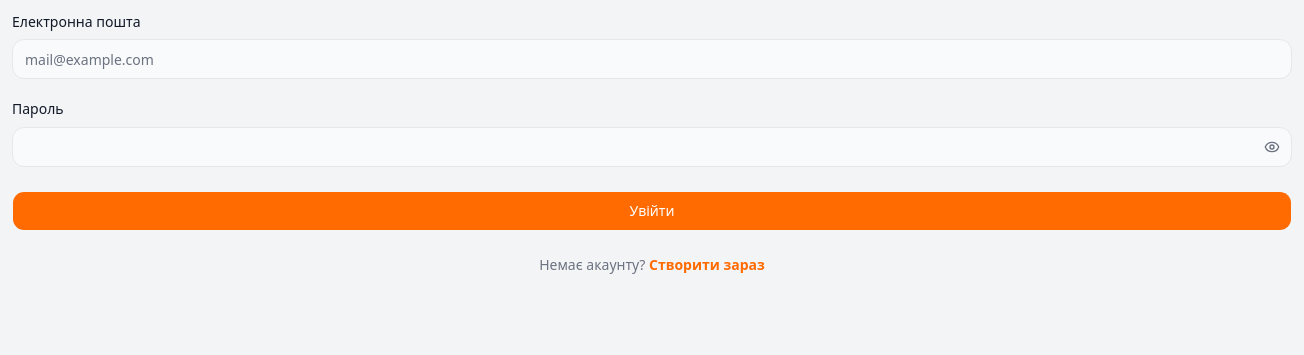
Scenario: LoginForm › shows one generic message for wrong credentials
Type "customer@example.com" into the field labelled "Електронна пошта".
click(652, 59); type("customer@example.com")  # box 12,39 -> 1292,79
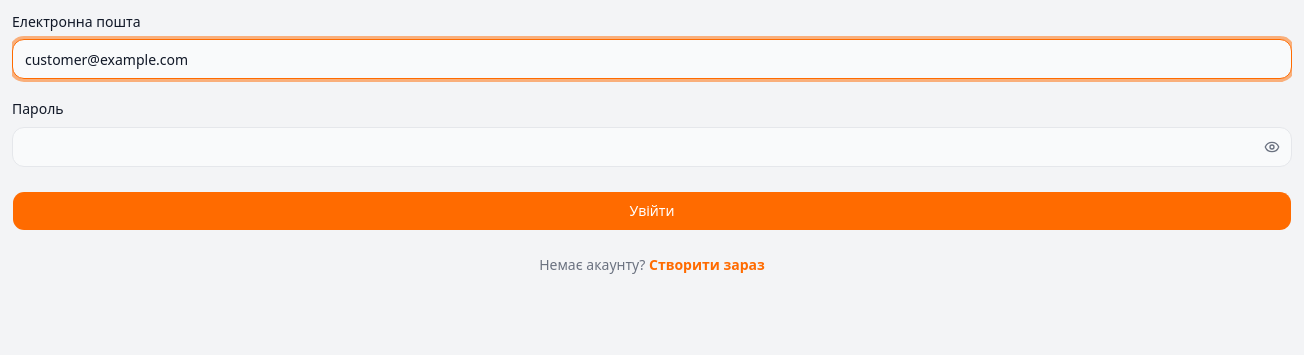
Type "wrong-password1" into the password field labelled "Пароль".
click(652, 146); type("wrong-password1")  # box 12,126 -> 1292,166
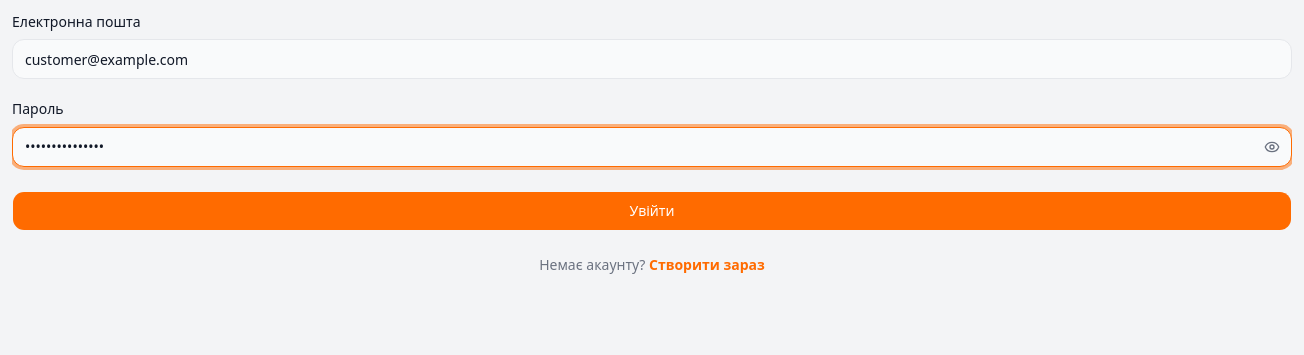
Click the button "Увійти".
click(652, 210)  # box 12,190 -> 1292,230
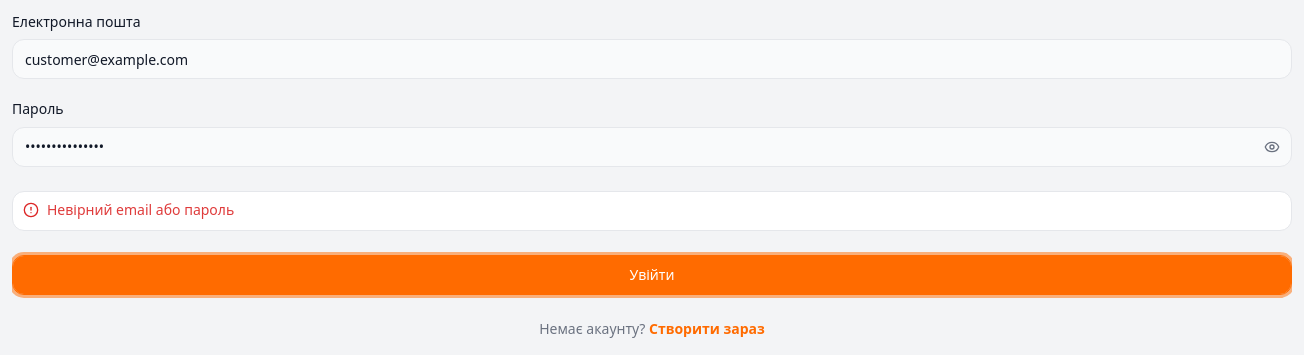
Now the text "Невірний email або пароль" is shown, box 47,200 -> 234,218
